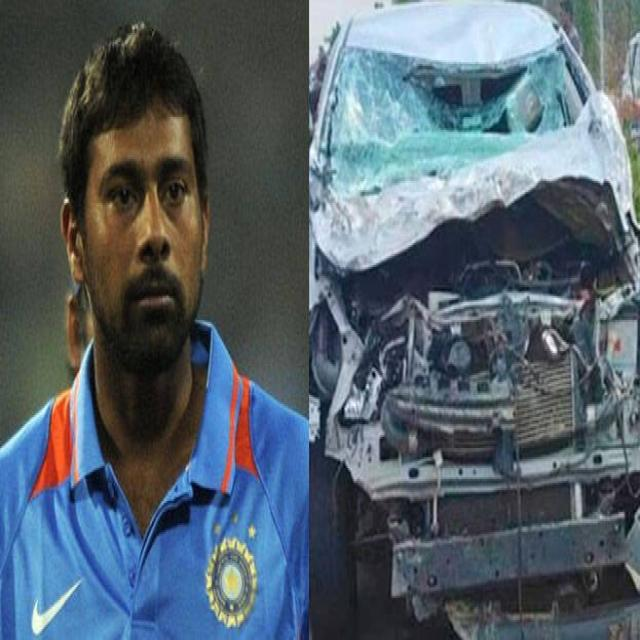accident: (310, 4, 640, 636)
